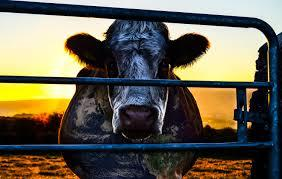cow: (57, 18, 211, 179)
